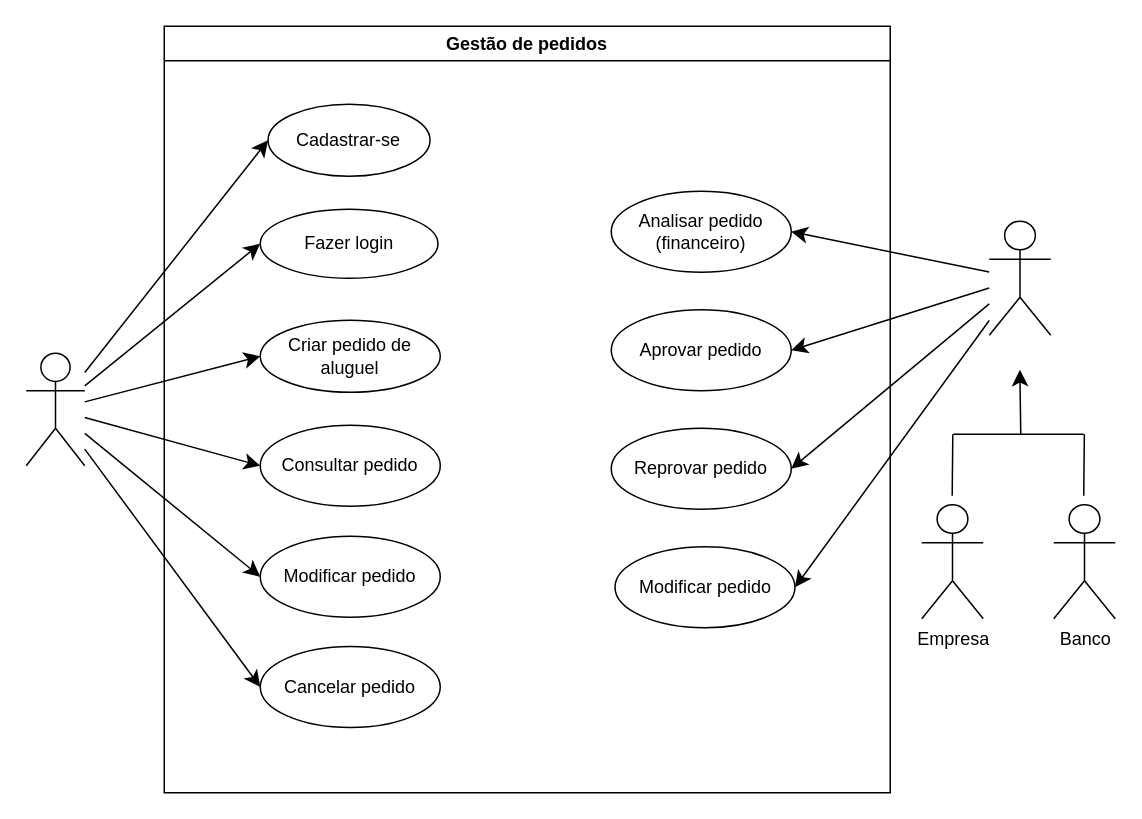
Some shapes in this 1142 by 819 pixel diagram are drawn without their labels. Here are the shapes that lost their labels. From the top down, the centre of each, then its label:
At (1019,277): "Agente".
At (55,409): "Cliente".
